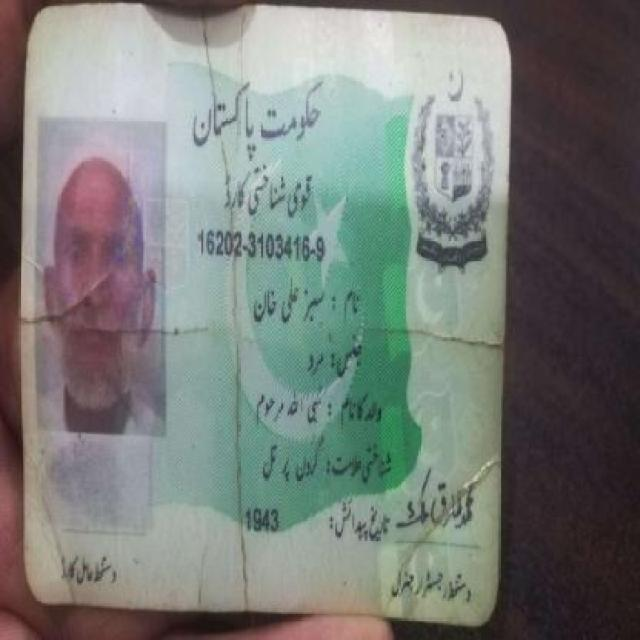Front: (19, 11, 526, 617)
